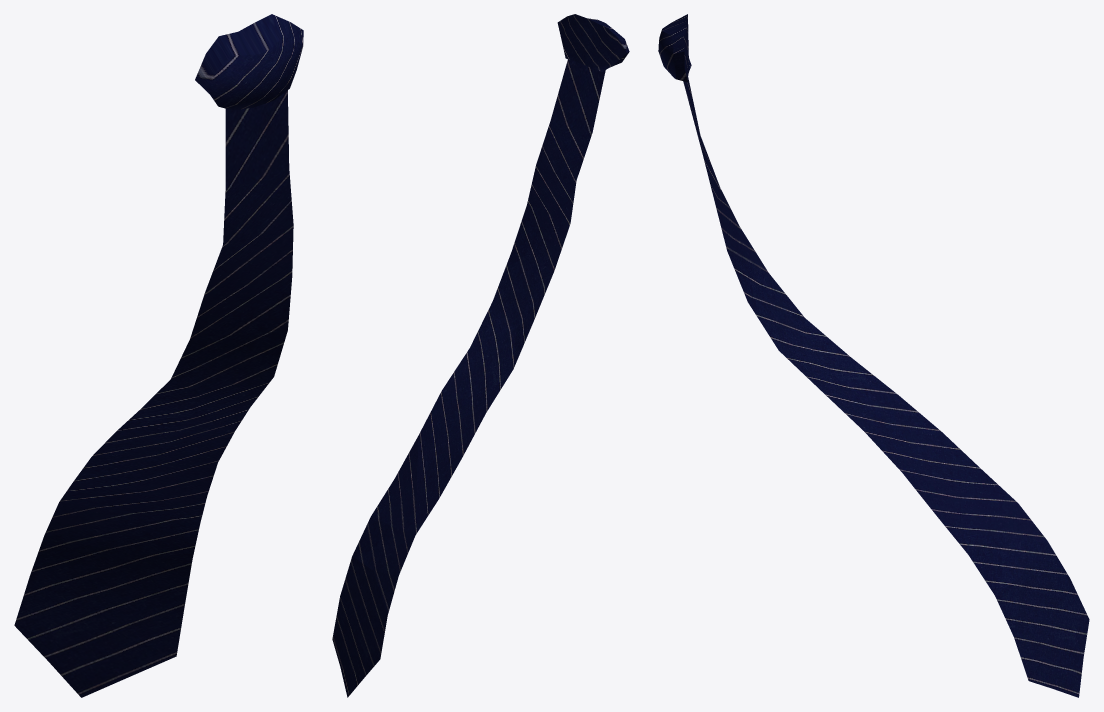
File: Pose-11_Tie-4.fbx
3 renders of one model, left to right at view 1: azimuth 30°, elevation 25°; view 2: azimuth 150°, elevation 25°; view 3: azimuth 270°, elevation 25°, orthographic. The views are drawn at different scales.
Visible parts, largest first — view 1: Pose-11_Tie-4; view 2: Pose-11_Tie-4; view 3: Pose-11_Tie-4.
Boxes of the visible parts, <box> form: Pose-11_Tie-4: <box>14,14,303,697</box>; Pose-11_Tie-4: <box>332,14,629,697</box>; Pose-11_Tie-4: <box>658,14,1089,697</box>.
Bounding box in the file's own units: 11.01 × 42.37 × 25.74.
